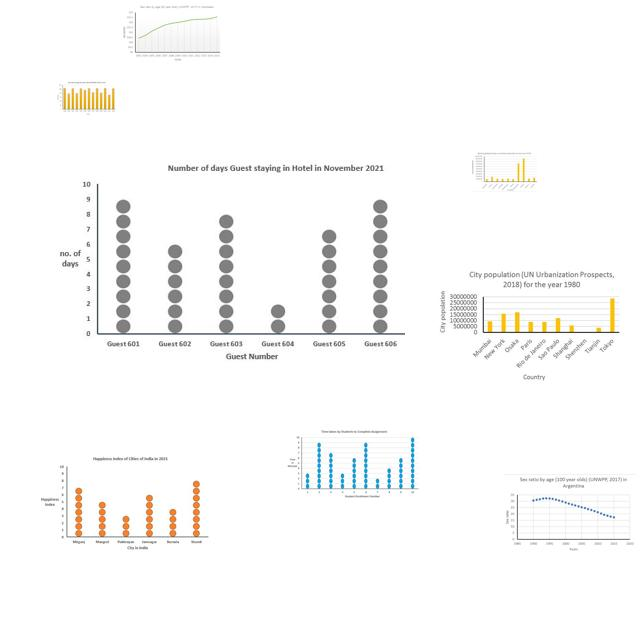Graph: (56, 160, 405, 366), (435, 267, 623, 383), (36, 454, 210, 555), (503, 474, 636, 553), (286, 429, 420, 499), (120, 3, 222, 63), (471, 151, 538, 192), (55, 80, 119, 116)
